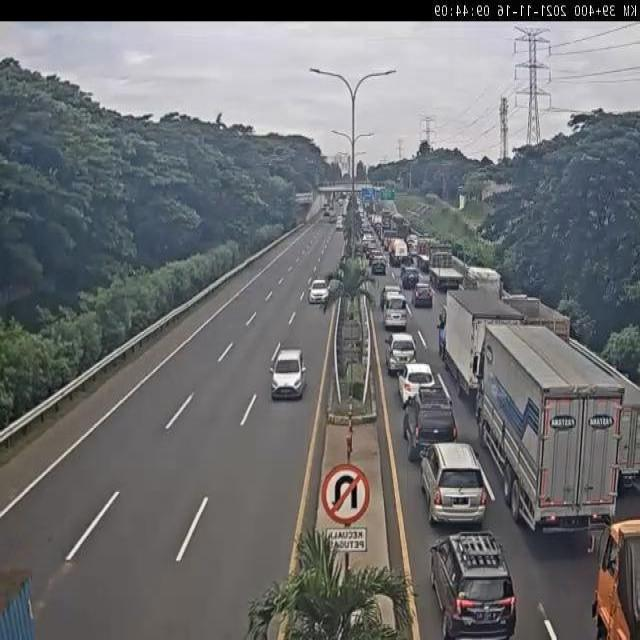Car: (428, 530, 516, 640), (420, 442, 488, 526), (403, 386, 458, 463), (398, 362, 438, 408), (271, 350, 304, 396), (385, 332, 417, 373), (384, 304, 410, 334), (381, 286, 404, 314), (414, 284, 434, 309), (308, 278, 327, 304), (401, 266, 420, 290), (371, 257, 386, 276)
Truck: (481, 324, 622, 540), (440, 290, 527, 389), (596, 523, 640, 637), (428, 245, 464, 288)
